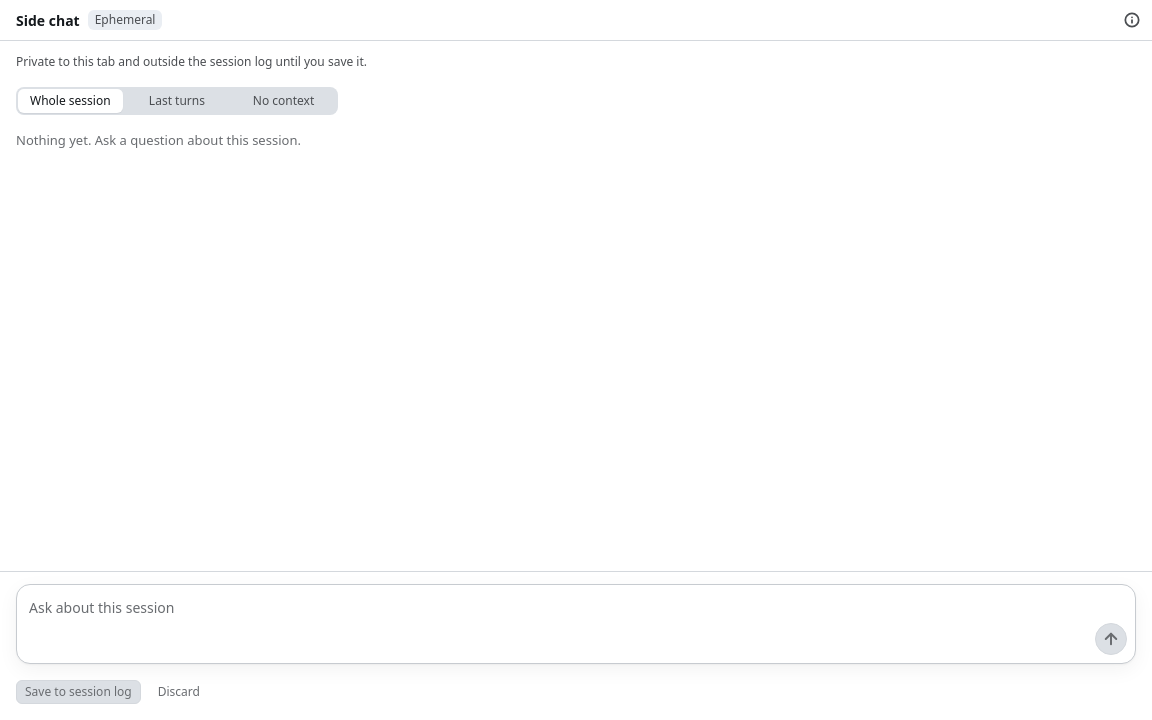
ephemeral labelling and storage › says so when the model stopped at its output limit
This screenshot has width=1152, height=720.
Type "q" into the text box labelled "Ask about this session".
click(578, 606); type("q")  # box [29,593,1127,619]
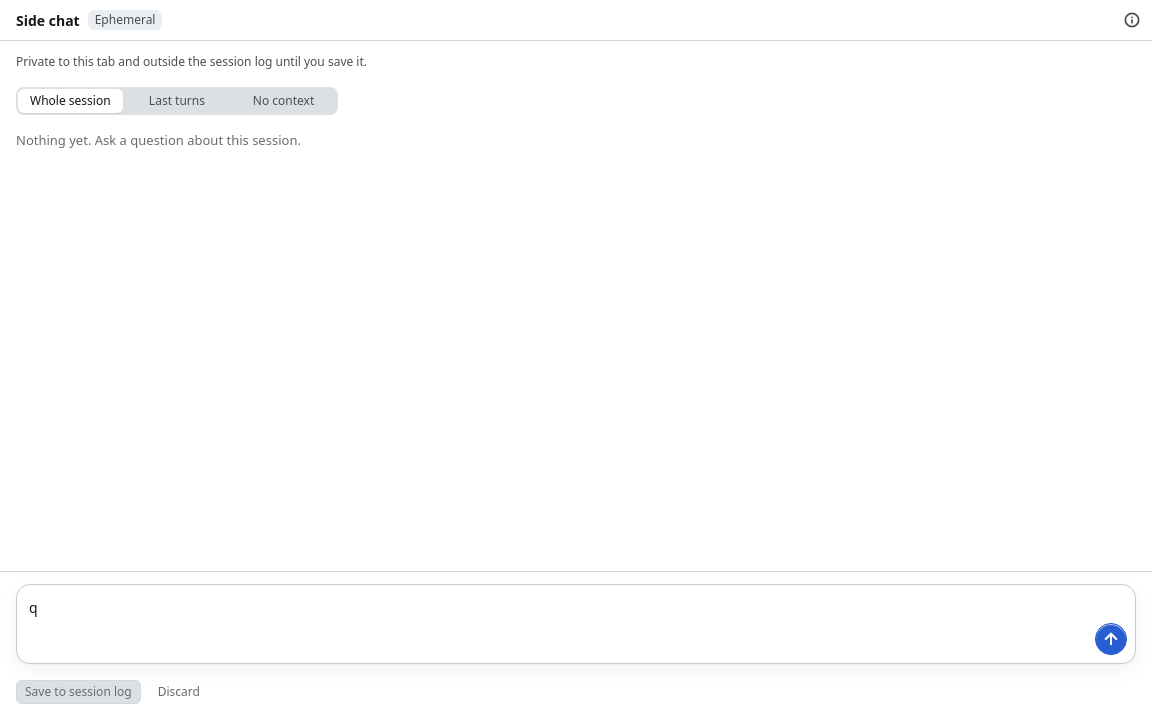
Click the button named "Ask".
click(1111, 639)  # box [1095,623,1127,655]
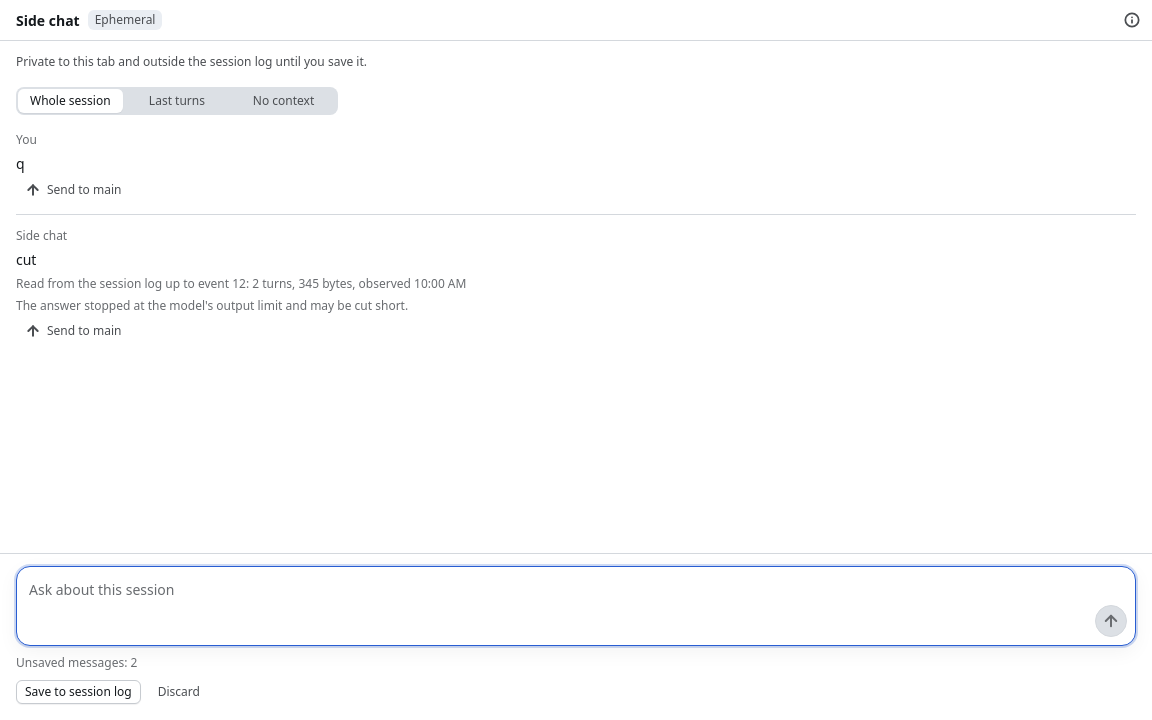
Expected: the text "The answer stopped at the model's output limit and may be cut short." is shown once, [16,297,408,314]
Type "q2" into the text box labelled "Ask about this session".
click(578, 588); type("q2")  # box [29,575,1127,601]
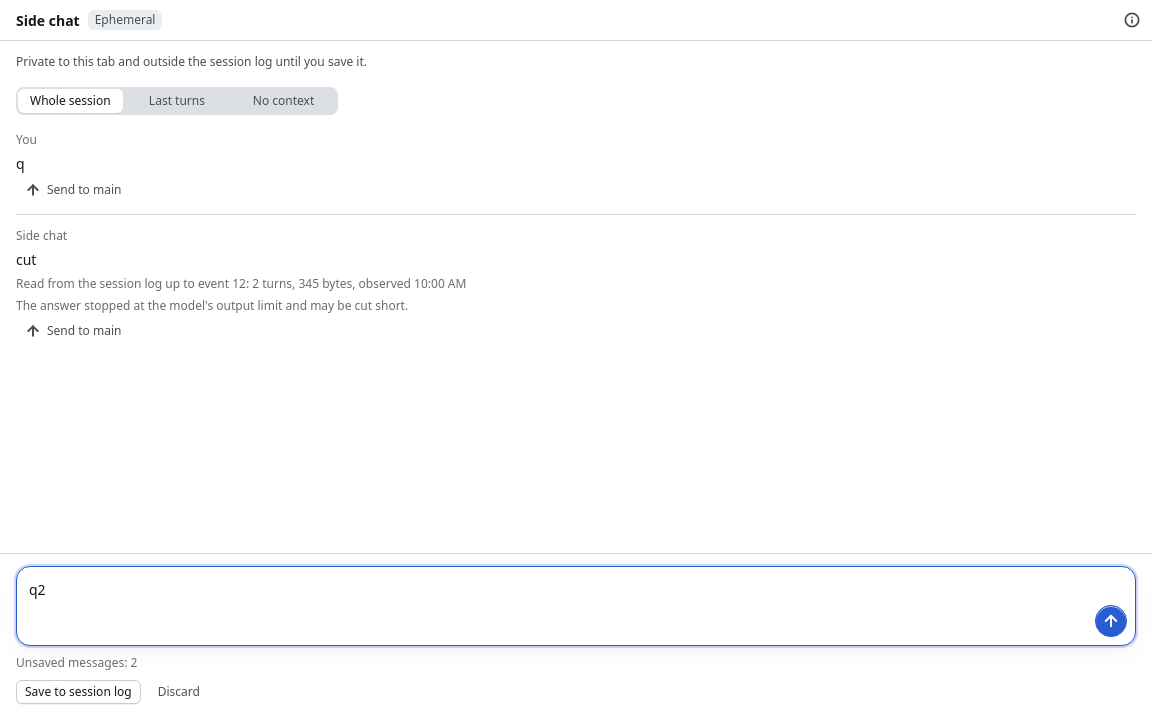
Click the button named "Ask".
click(1111, 621)  # box [1095,605,1127,637]
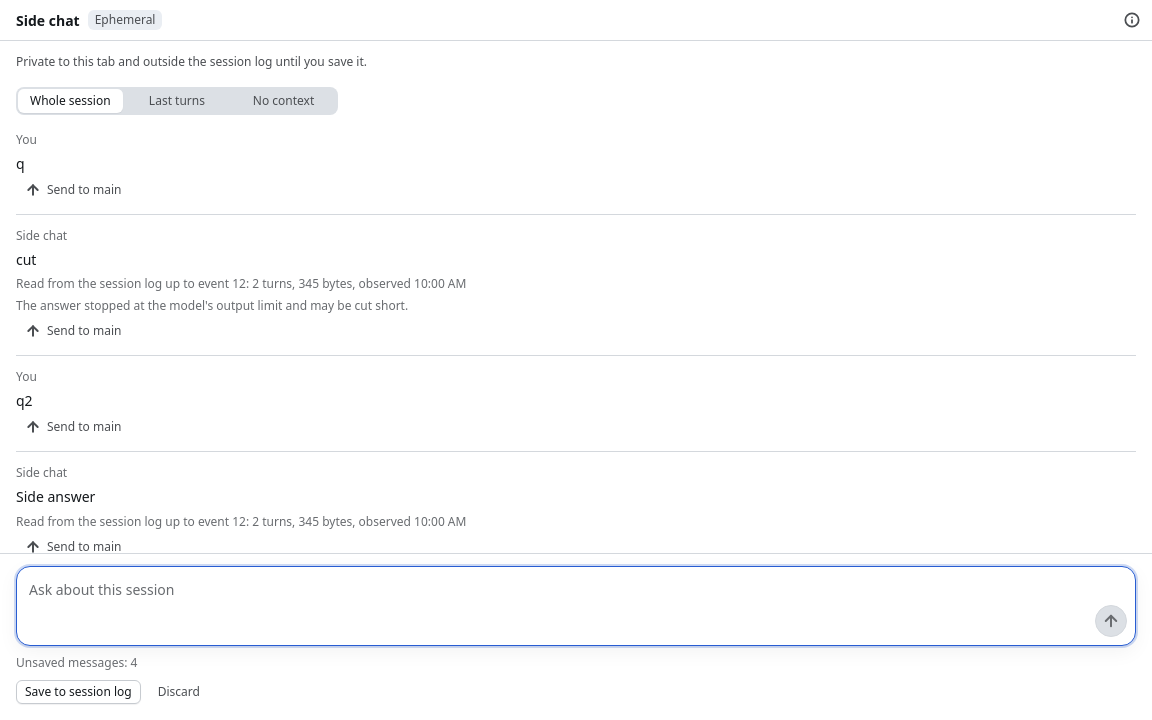
Expected: the text "The answer stopped at the model's output limit and may be cut short." is shown once, [16,297,408,314]
